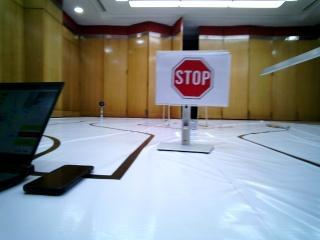stop: (158, 51, 230, 102)
